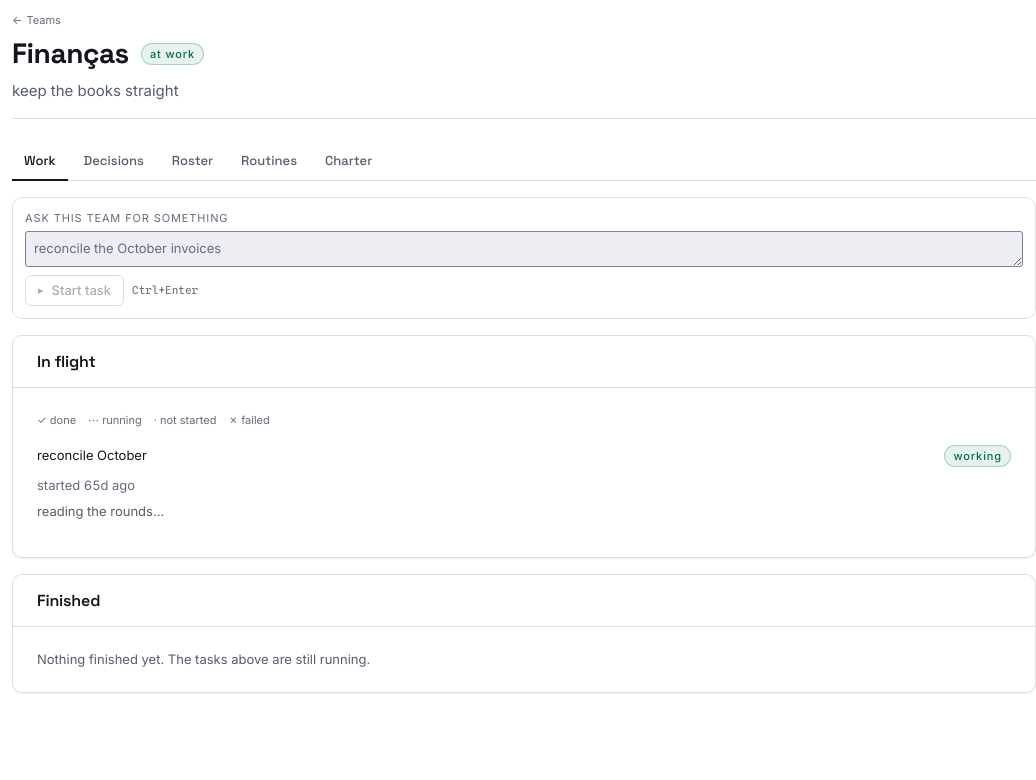
Test: Bench - Work › the rounds strip says what its marks mean
Press the mouse on the tab "Work" at (40, 162), box [12,143,68,181]
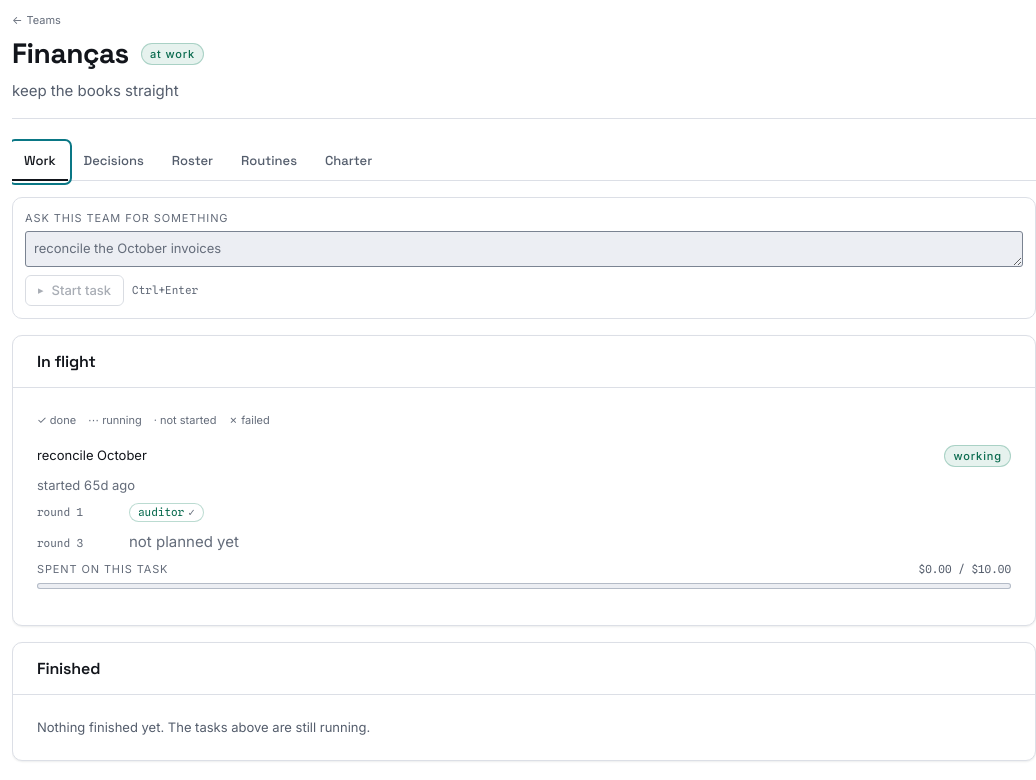
Expected: the element with class "teams-rounds-key" shows "✓ done", [37,413,270,427]
Expected: the list named "Rounds" is shown, [37,503,239,551]
